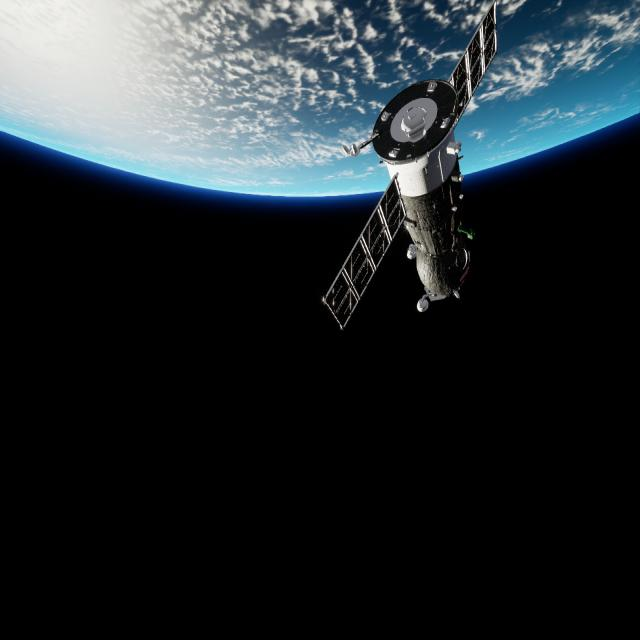Satellites revolving around earth: (320, 1, 500, 332)
